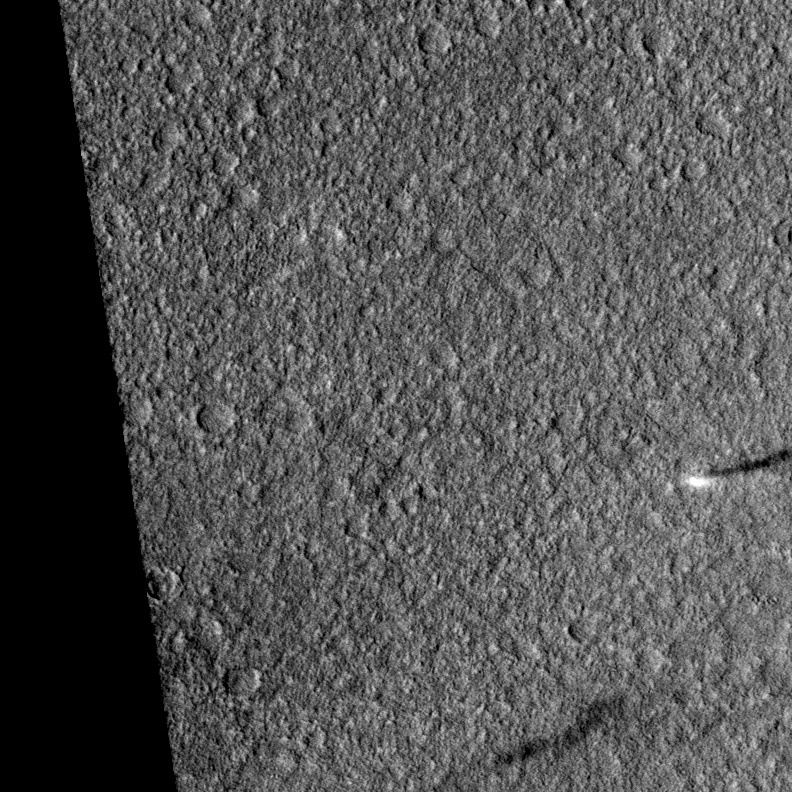dust_devil: (683, 442, 792, 490)
